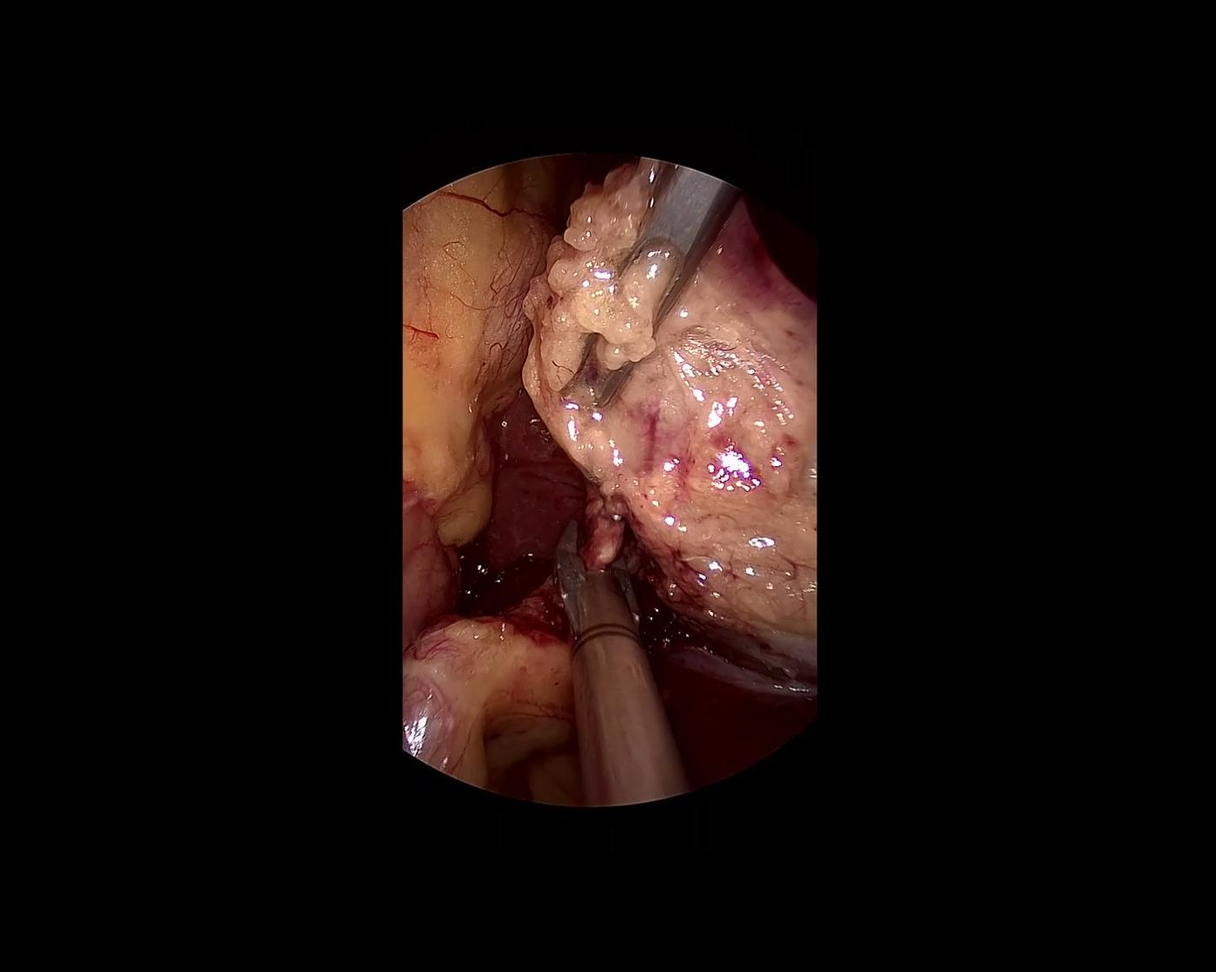Forceps: (544, 159, 739, 430)
Gallbladder: (520, 161, 814, 676)
Liver: (413, 389, 610, 637), (639, 576, 832, 783)
